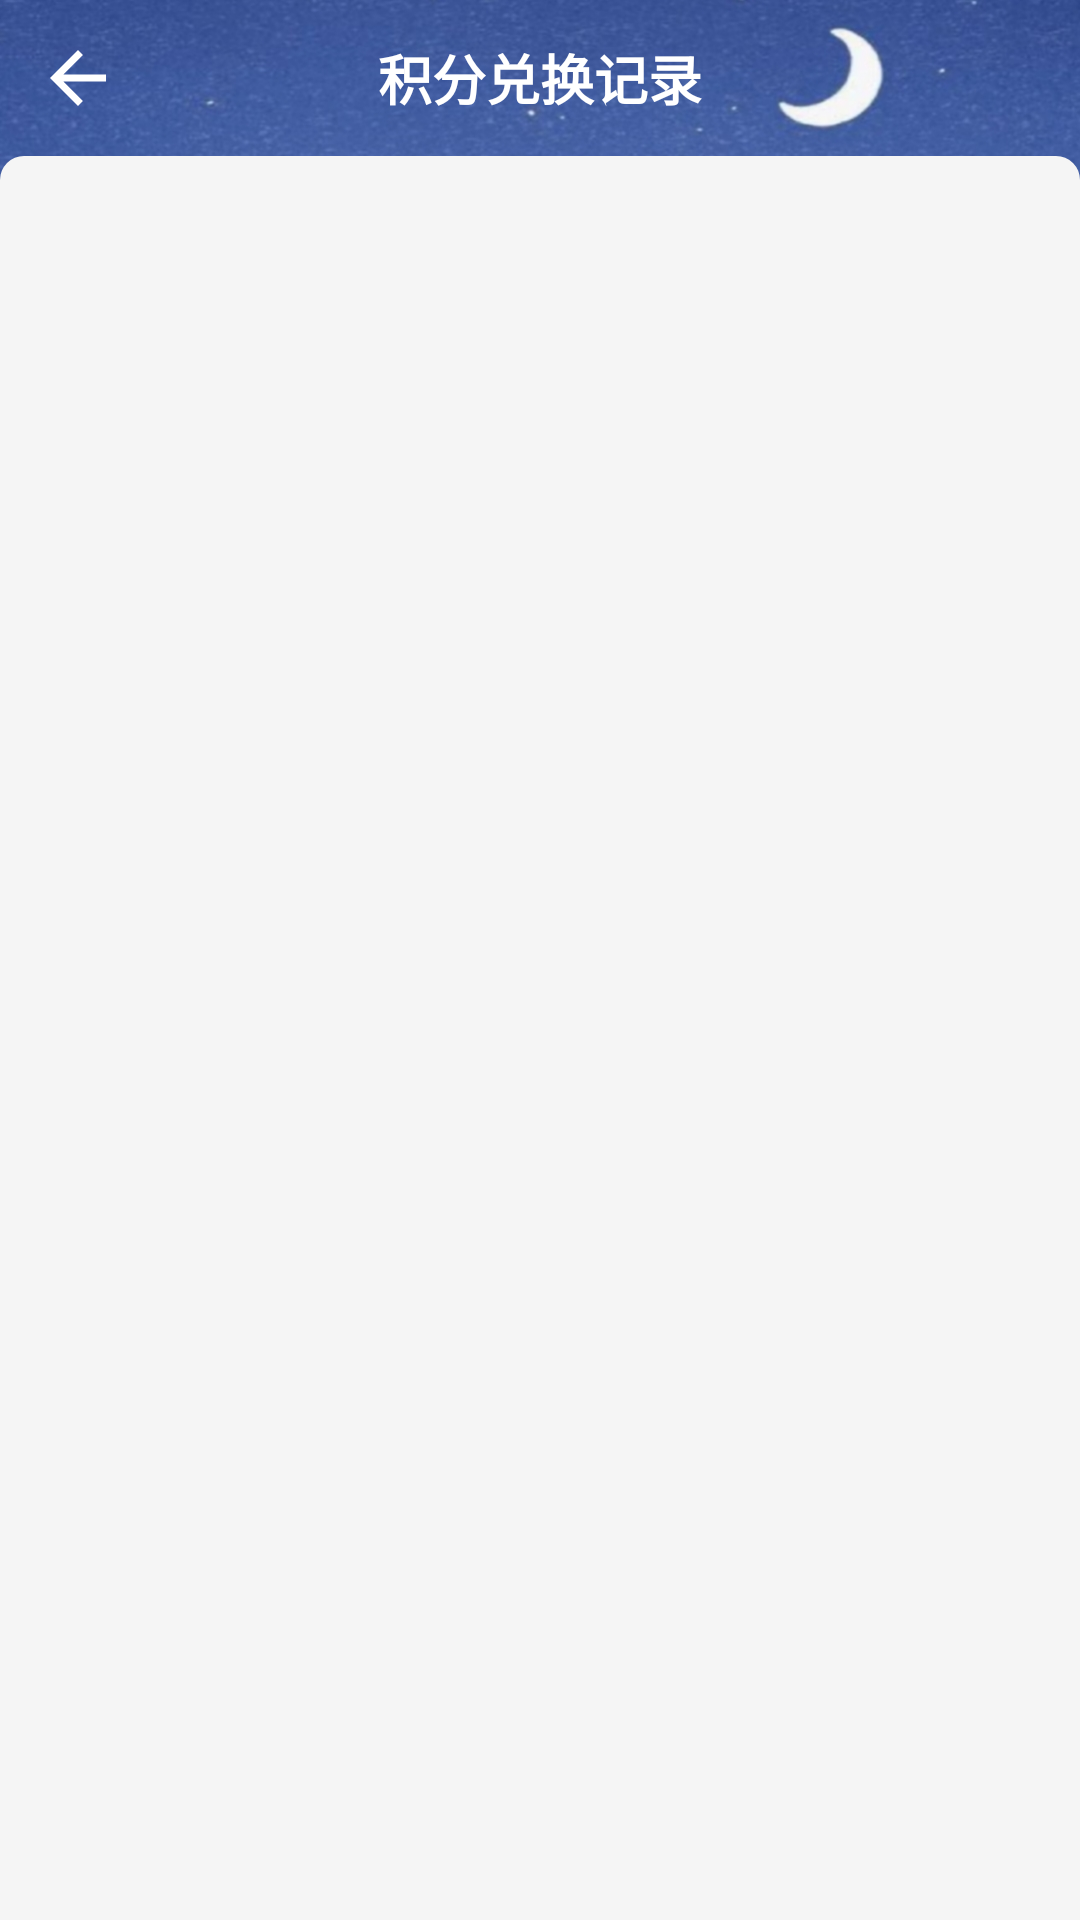

Where icons sit on this 1080px x 1920px app screen, as (x1, y1, x2, y2):
back: (50, 50, 106, 106)
